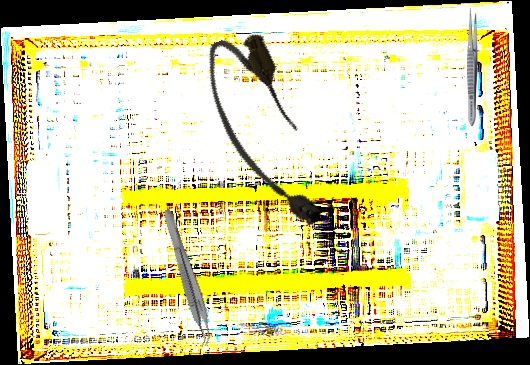Cannula: (193, 25, 336, 242)
Dressing Forceps: (466, 8, 478, 126)
Tissue Forceps: (154, 207, 219, 348)
